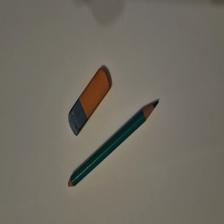eraser: (69, 69, 113, 138)
pencil: (69, 102, 160, 189)
